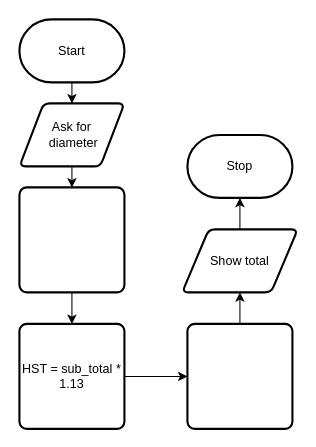
Some shapes in this 316 by 447 pixel diagram are drawn without their labels. The box of each missing label's shape, as (x1, y1, x2, y2) in pixels:
sub_total = 0.75 + 1 + (0.5 * diameter): (18, 186, 125, 293)
total = HST + sub_total: (186, 322, 293, 429)
